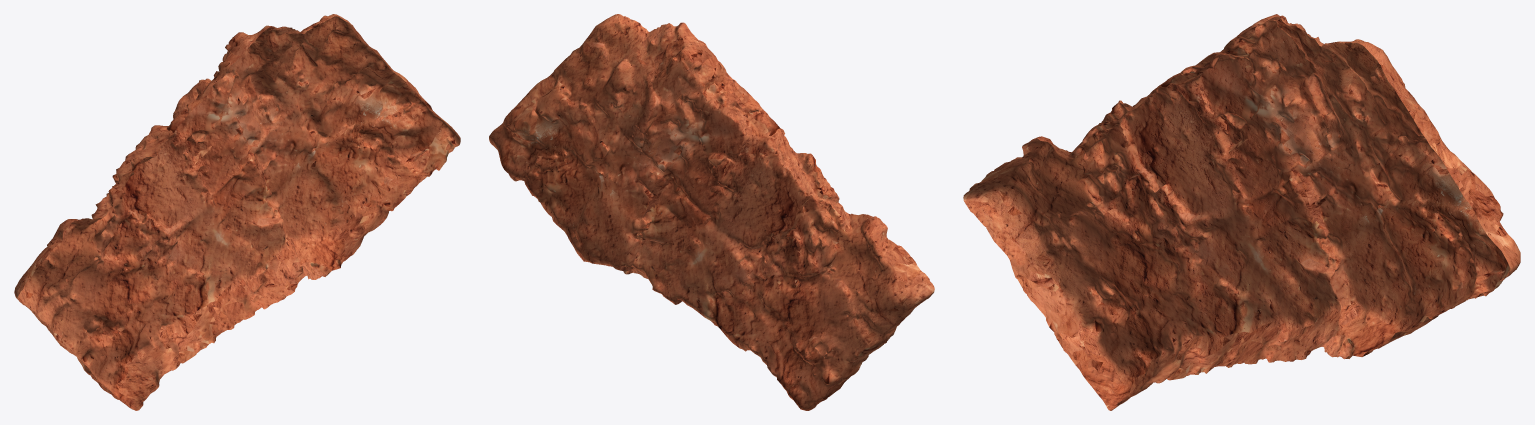
File: roca2.obj
3 renders of one model, left to right at view 1: azimuth 30°, elevation 25°; view 2: azimuth 150°, elevation 25°; view 3: azimuth 330°, elevation 25°, orthographic. The views are drawn at different scales.
Parts seen in each view (by area): view 1: Grock2_Rock1; view 2: Grock2_Rock1; view 3: Grock2_Rock1.
Part boxes in pixels (x1=…): Grock2_Rock1: x1=14, y1=14, x2=460, y2=410; Grock2_Rock1: x1=489, y1=14, x2=934, y2=410; Grock2_Rock1: x1=963, y1=14, x2=1520, y2=410.
Bounding box in the file's own units: 2.78 × 2.11 × 0.3204.
